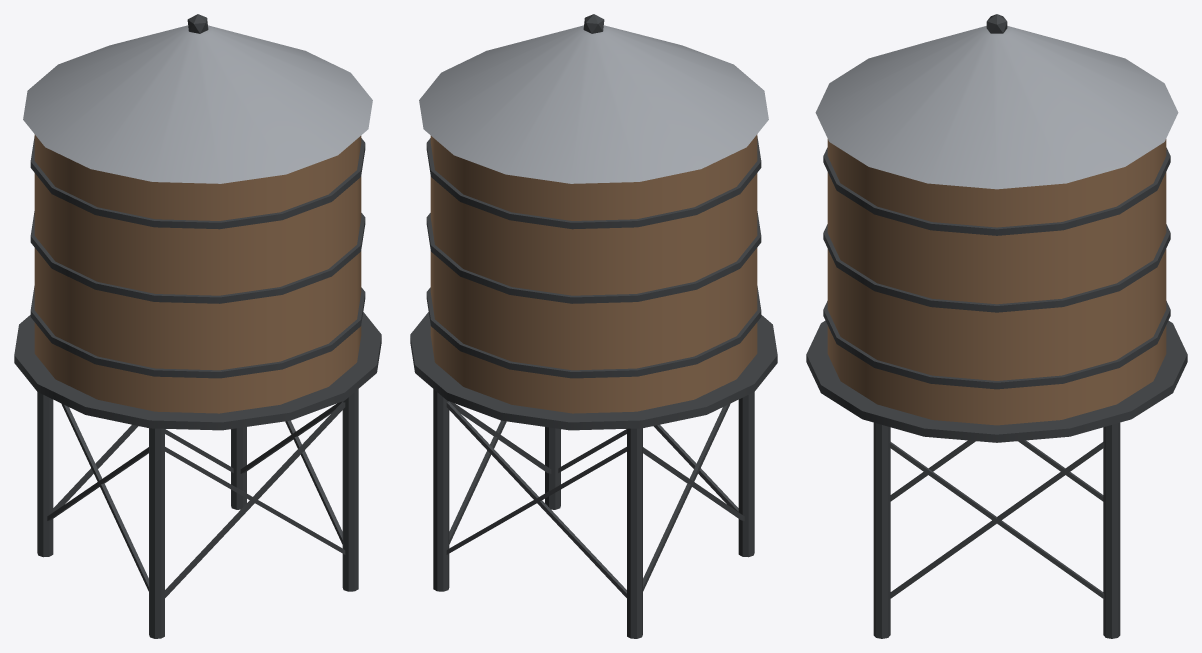
Rendered from water_tower.glb.
The picture shows the model from 3 angles, left to right: view 1: azimuth 30°, elevation 25°; view 2: azimuth 150°, elevation 25°; view 3: azimuth 270°, elevation 25°; orthographic projection. The views are drawn at different scales.
Visible parts, largest first — view 1: WaterTower_Intact; view 2: WaterTower_Intact; view 3: WaterTower_Intact.
Boxes of the visible parts, x1=… form: WaterTower_Intact: x1=14, y1=14, x2=381, y2=638; WaterTower_Intact: x1=410, y1=14, x2=777, y2=638; WaterTower_Intact: x1=806, y1=14, x2=1187, y2=638.
Size of the model in its own units: 6.3 by 10.45 by 6.3.
